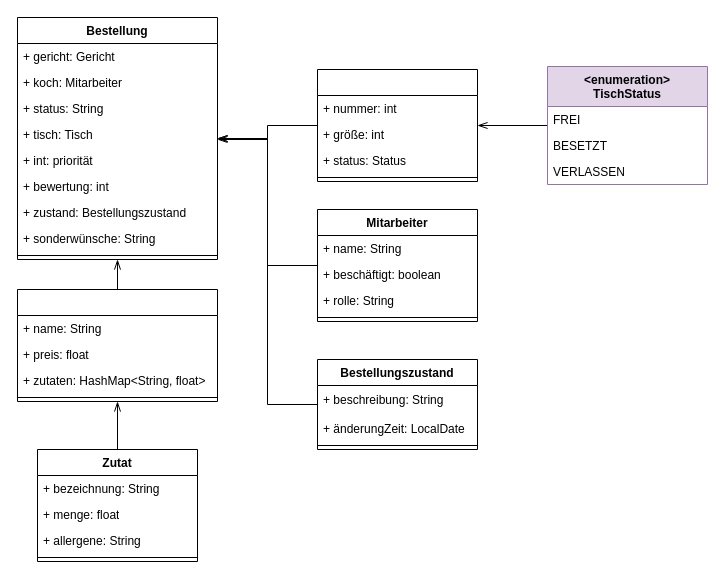
The diagram is 725 pixels wide and 579 high, and some of its shapes have lost their labels. Here are the shapes that lost their labels. From the top down, the box of each, then its label:
(316, 68, 478, 182): Tisch
(16, 288, 218, 402): Gericht
